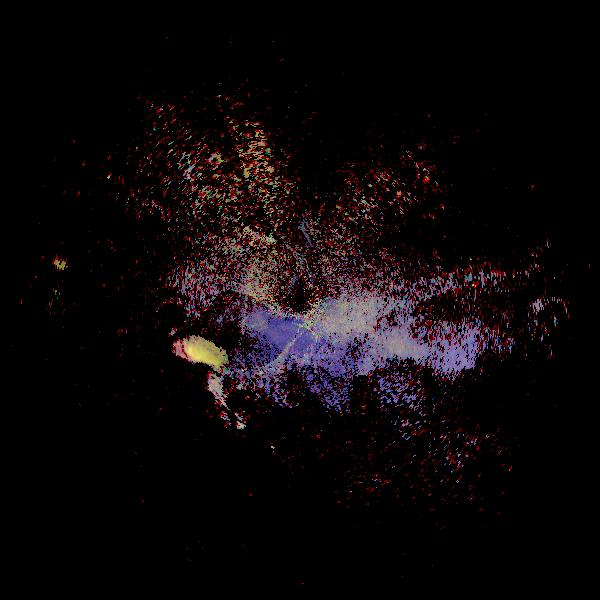roost: (114, 312, 249, 447)
